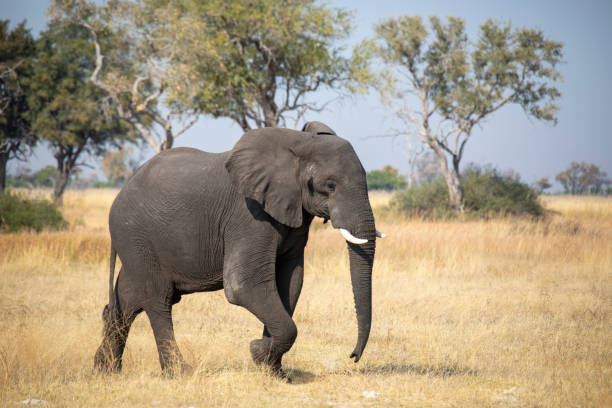africanelephant: (291, 129, 395, 259)
